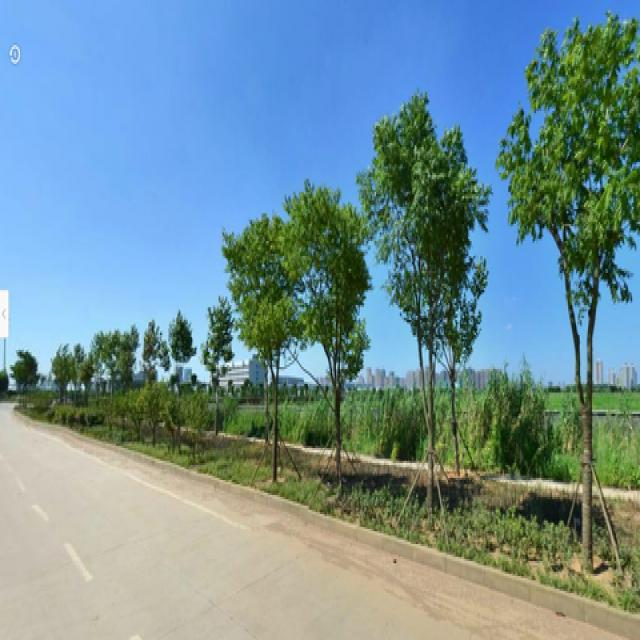meta: (529, 55, 623, 552), (376, 115, 461, 525), (298, 190, 366, 501), (237, 207, 292, 474)
